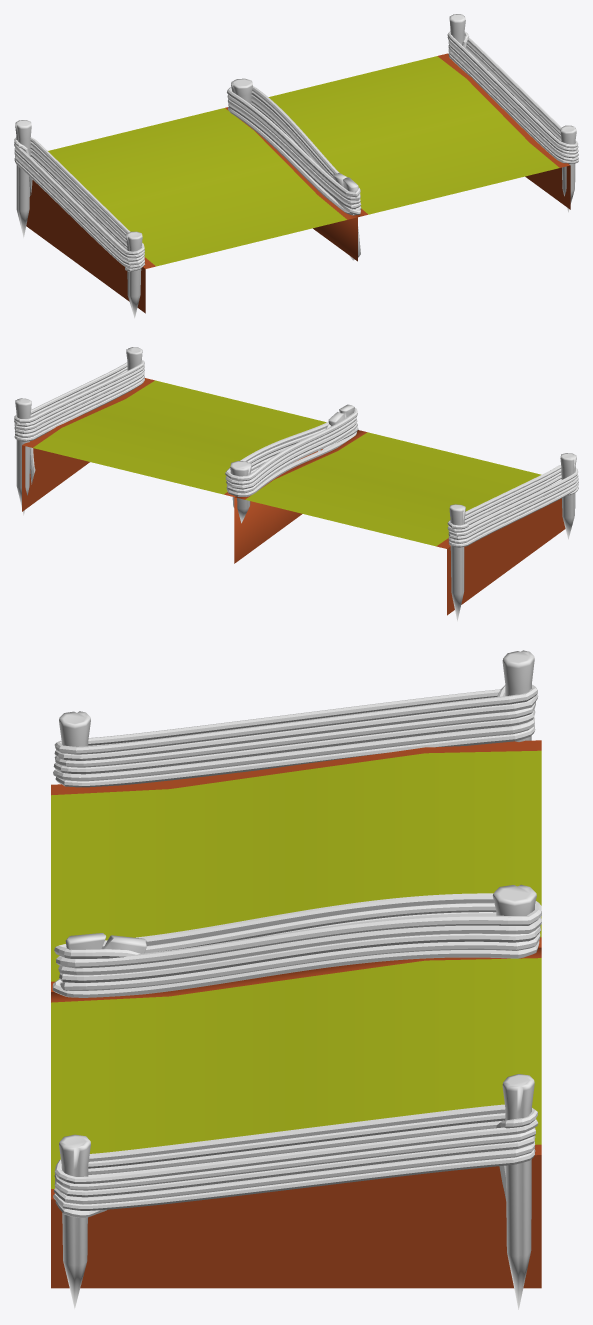
Rendered from Parallel_routes_Up02.fbx.
The picture shows the model from 3 angles, top to bottom: view 1: azimuth 30°, elevation 25°; view 2: azimuth 150°, elevation 25°; view 3: azimuth 270°, elevation 25°; orthographic projection. The views are drawn at different scales.
Visible parts, largest first — view 1: Cube.016; view 2: Cube.016; view 3: Cube.016.
Part boxes in pixels (x1,y1,x2,y2): Cube.016: (14, 14, 578, 318); Cube.016: (14, 347, 578, 621); Cube.016: (51, 650, 541, 1309).
Size of the model in its own units: 427 by 104 by 200.
